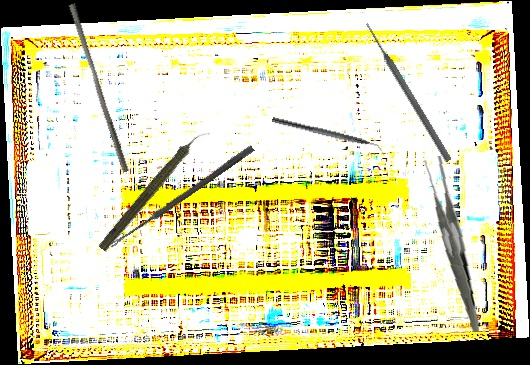Chopper: (270, 117, 387, 156)
Dressing Forceps: (412, 154, 491, 333)
Handpiece: (95, 122, 213, 257)
Pusher: (362, 20, 454, 164), (62, 2, 136, 174)
Surgical Spoon: (108, 144, 255, 250)
